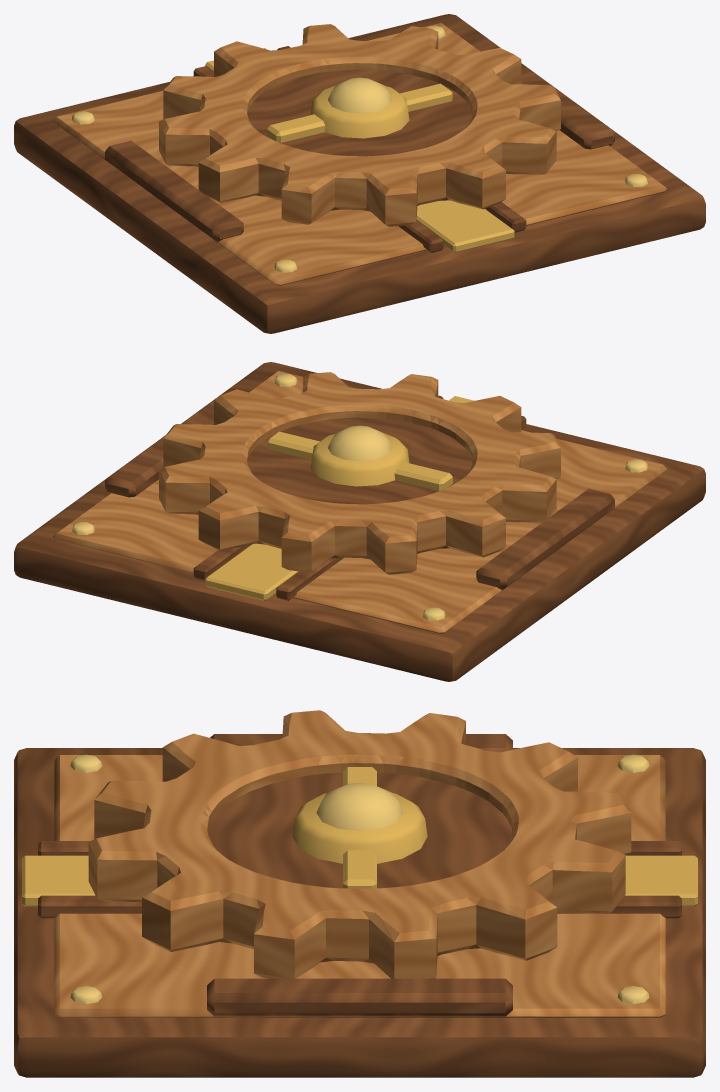
The model's file is engrenage_droit.glb.
The picture shows the model from 3 angles, top to bottom: view 1: azimuth 30°, elevation 25°; view 2: azimuth 150°, elevation 25°; view 3: azimuth 270°, elevation 25°; orthographic projection. The views are drawn at different scales.
Parts seen in each view (by area): view 1: engrenage_droit_Socle, Rotor; view 2: engrenage_droit_Socle, Rotor; view 3: engrenage_droit_Socle, Rotor.
Boxes of the visible parts, box(x1,y1,x2,y2) form: engrenage_droit_Socle: box(14, 14, 705, 333); Rotor: box(159, 24, 560, 226); engrenage_droit_Socle: box(14, 362, 705, 681); Rotor: box(159, 372, 560, 574); engrenage_droit_Socle: box(14, 734, 705, 1077); Rotor: box(88, 710, 631, 978).
Size of the model in its own units: 1.72 by 0.406 by 1.72.
5 materials, 2 textured.
